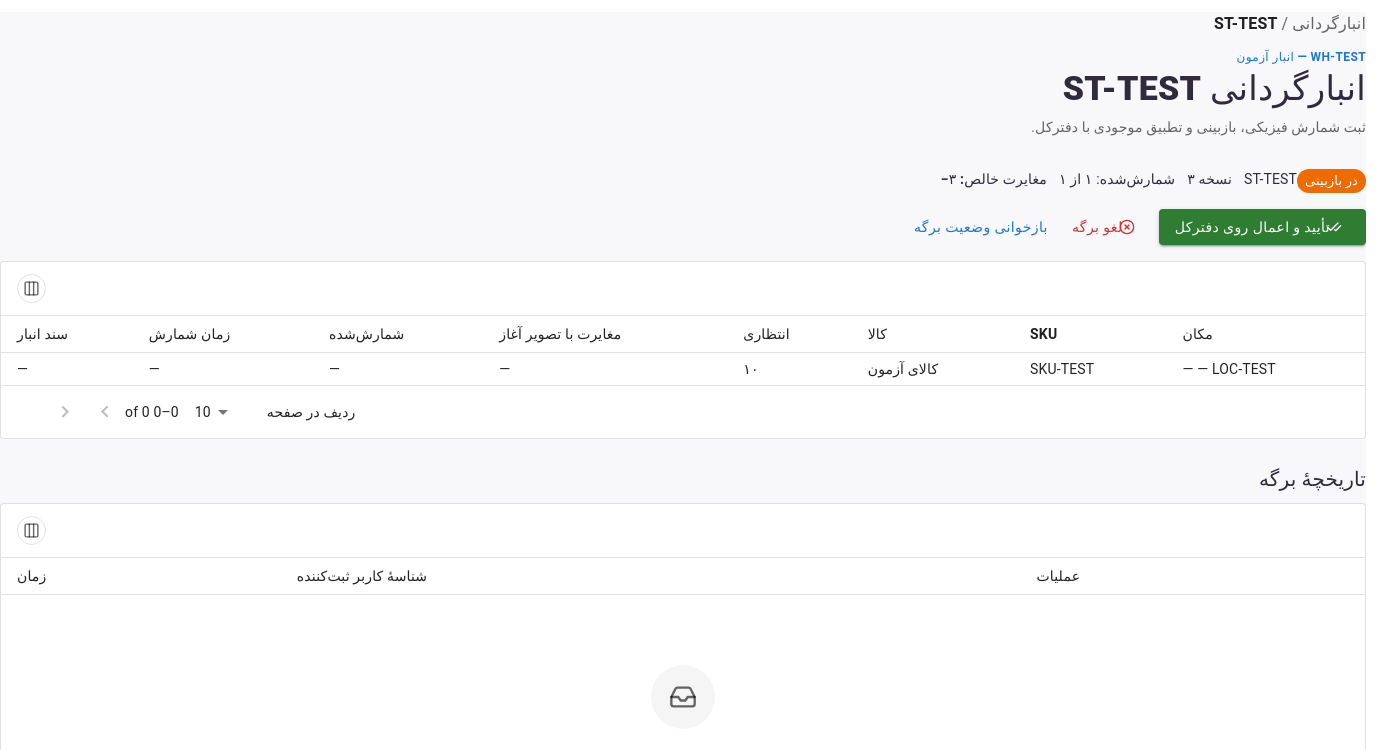
Stocktake count sheet operator states › freezes review and completion and renders approval and linked movement evidence
This screenshot has width=1378, height=750.
Click the button "تأیید و اعمال روی دفترکل": x=1262, y=227 [1159,209,1366,245]
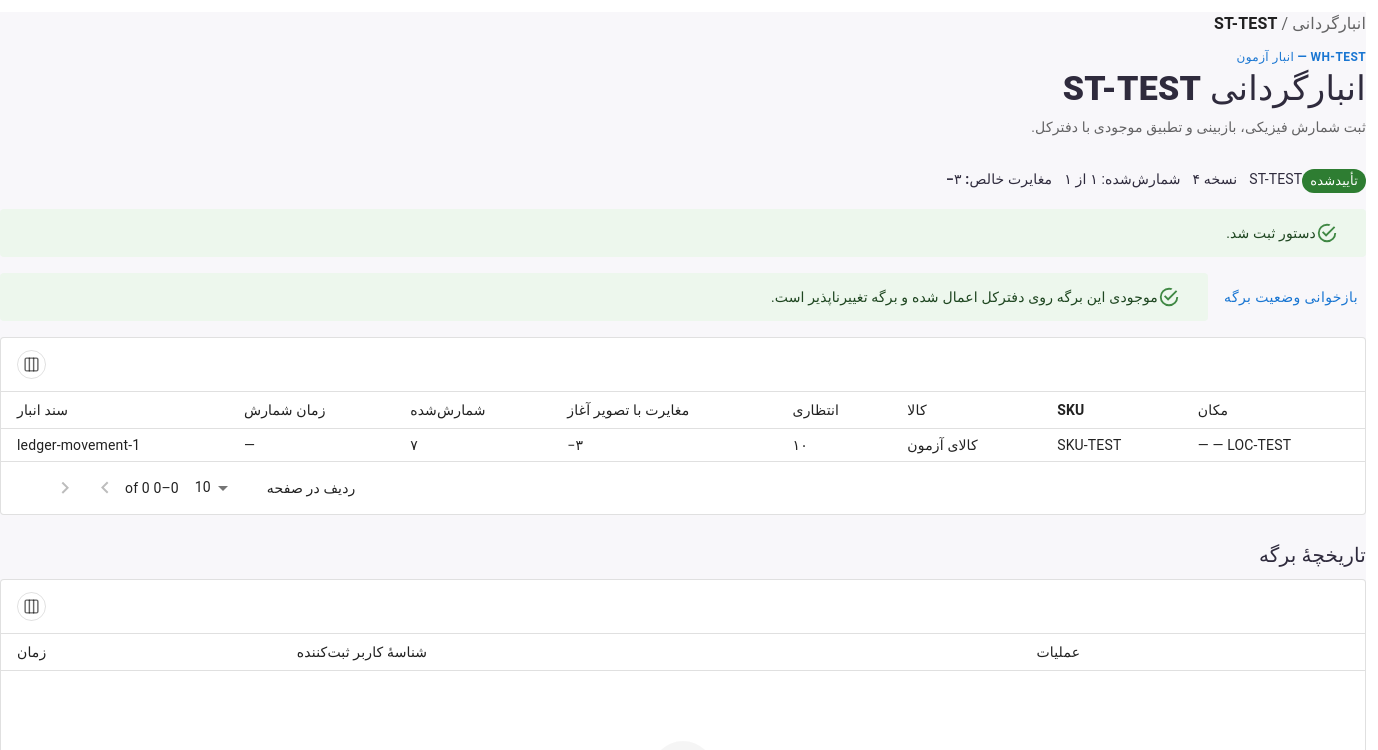
expect the text "ledger-movement-1" is shown: met, box [1,429,228,462]
expect the button "لغو برگه" is gone: met
